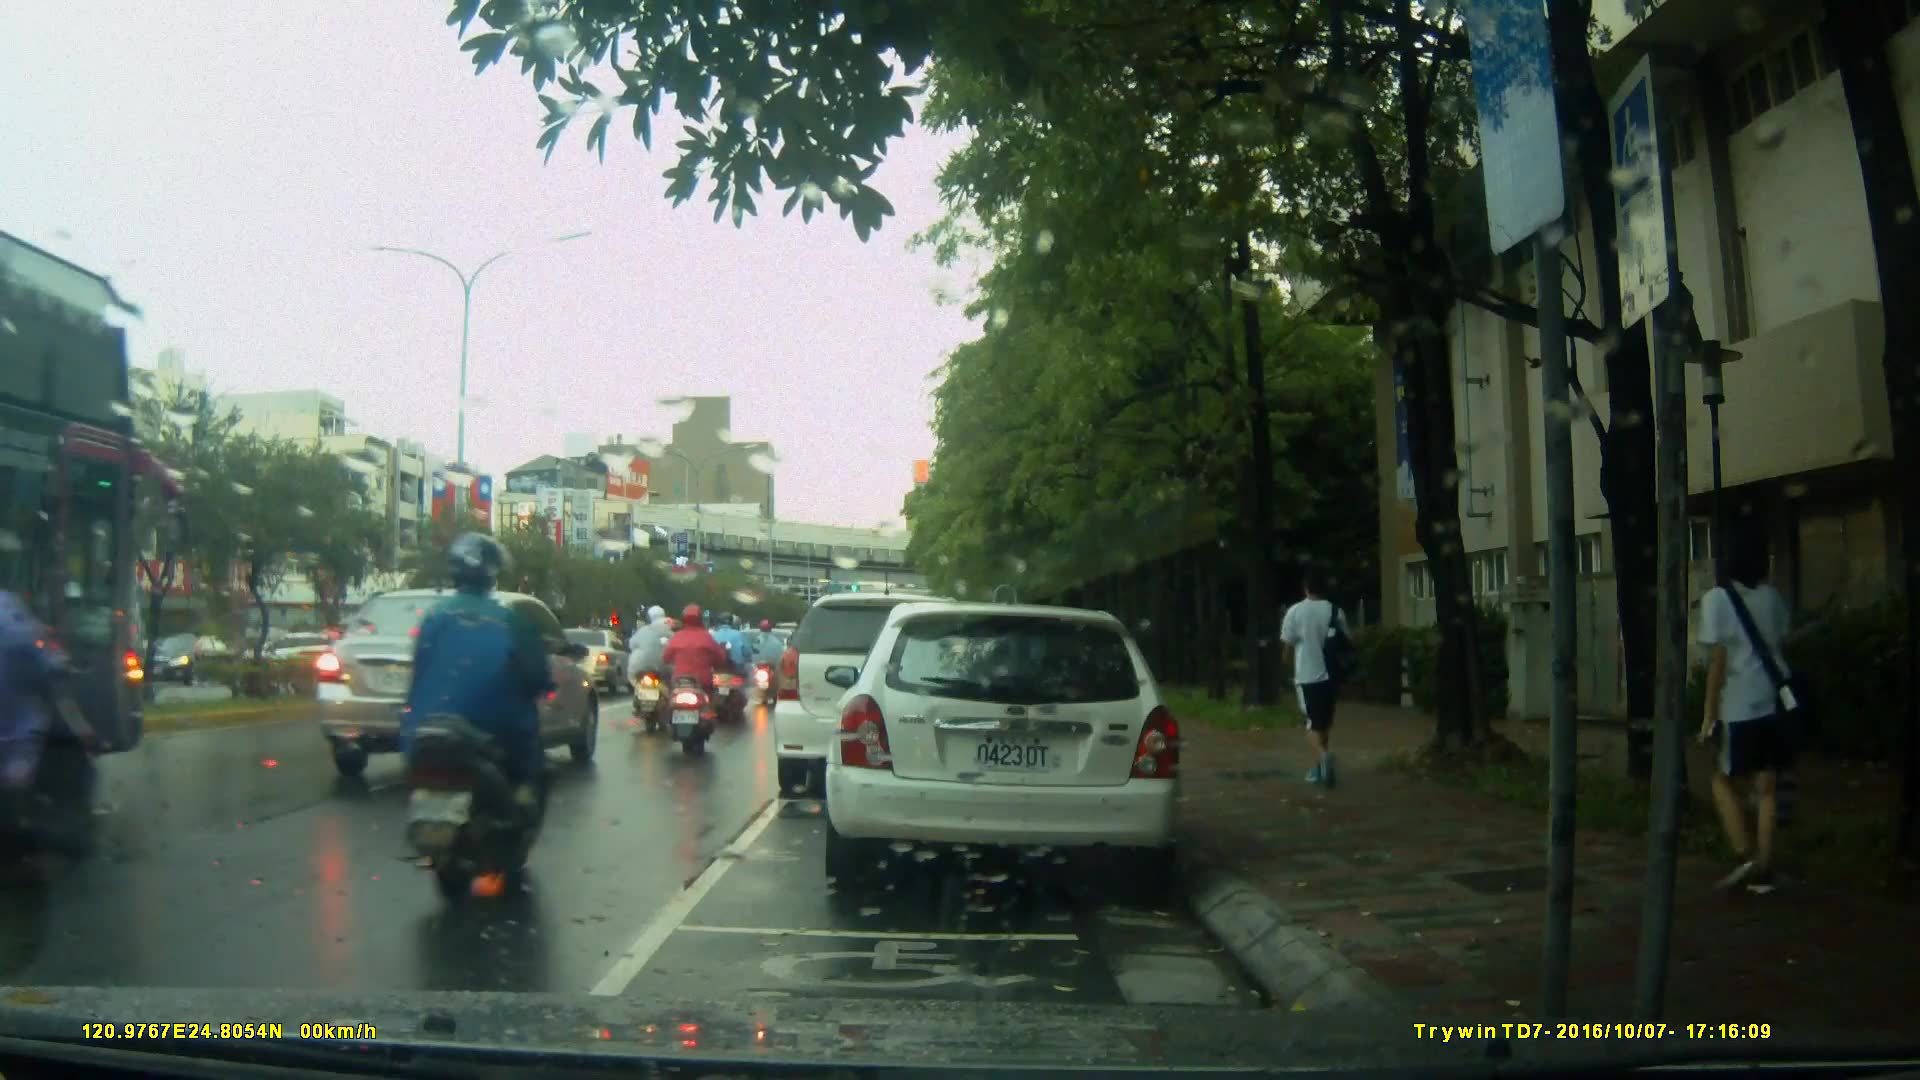pedestrian: (1676, 523, 1796, 908), (1, 523, 105, 868), (1279, 552, 1380, 809)
rider: (396, 533, 555, 915), (656, 605, 726, 763), (627, 603, 681, 738), (706, 611, 758, 718), (751, 616, 786, 711)
vehicle: (822, 604, 1188, 882), (312, 586, 604, 783), (774, 595, 995, 802), (535, 625, 637, 699), (144, 630, 241, 686)
